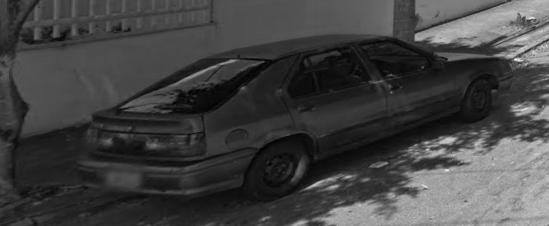car: (80, 35, 515, 202)
